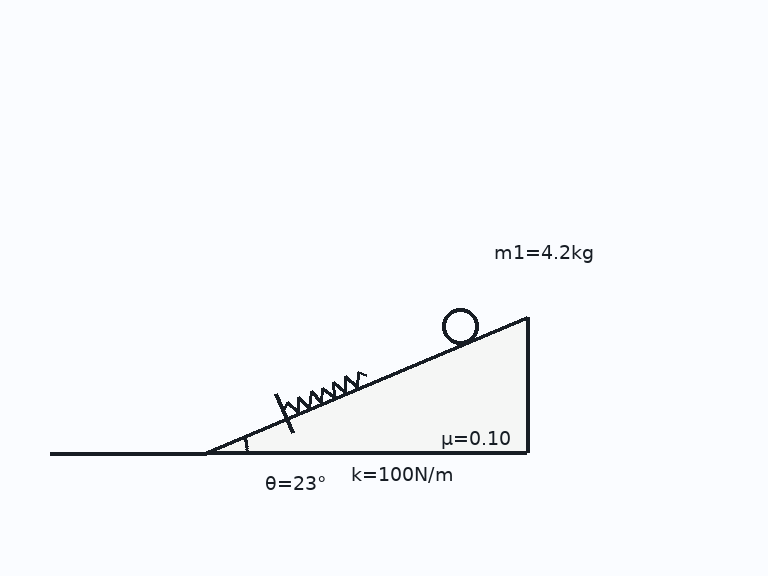ball: (440, 306, 480, 346)
ramp: (205, 315, 528, 455)
spring: (281, 370, 368, 414)
